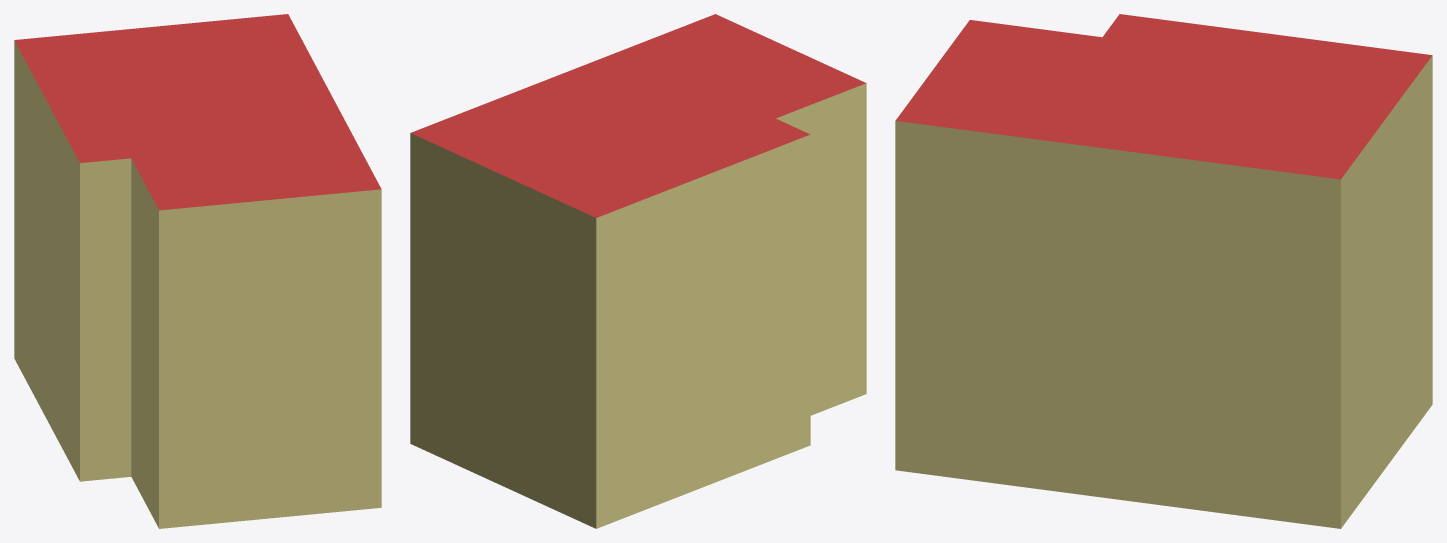
The picture shows the model from 3 angles, left to right: view 1: azimuth 30°, elevation 25°; view 2: azimuth 150°, elevation 25°; view 3: azimuth 270°, elevation 25°; orthographic projection. The views are drawn at different scales.
Parts seen in each view (by area): view 1: group_4, group_3; view 2: group_4, group_3; view 3: group_4, group_3.
Boxes of the visible parts, bbox=[...] form: group_4: bbox=[14, 40, 381, 528]; group_3: bbox=[14, 14, 381, 210]; group_4: bbox=[410, 83, 866, 528]; group_3: bbox=[411, 14, 866, 217]; group_4: bbox=[895, 55, 1432, 528]; group_3: bbox=[895, 14, 1432, 179].
Bounding box in the file's own units: 8.1 × 11.11 × 7.98.
